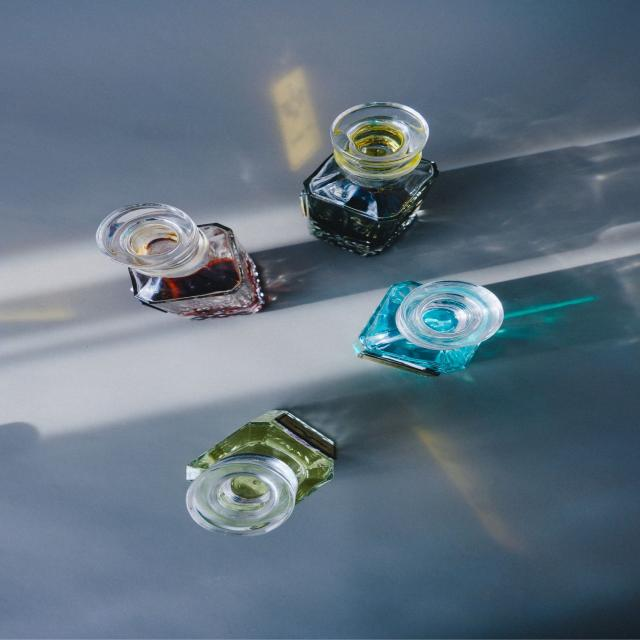Bottle: (301, 103, 438, 255), (97, 204, 263, 319), (187, 411, 336, 535), (355, 281, 503, 375)
